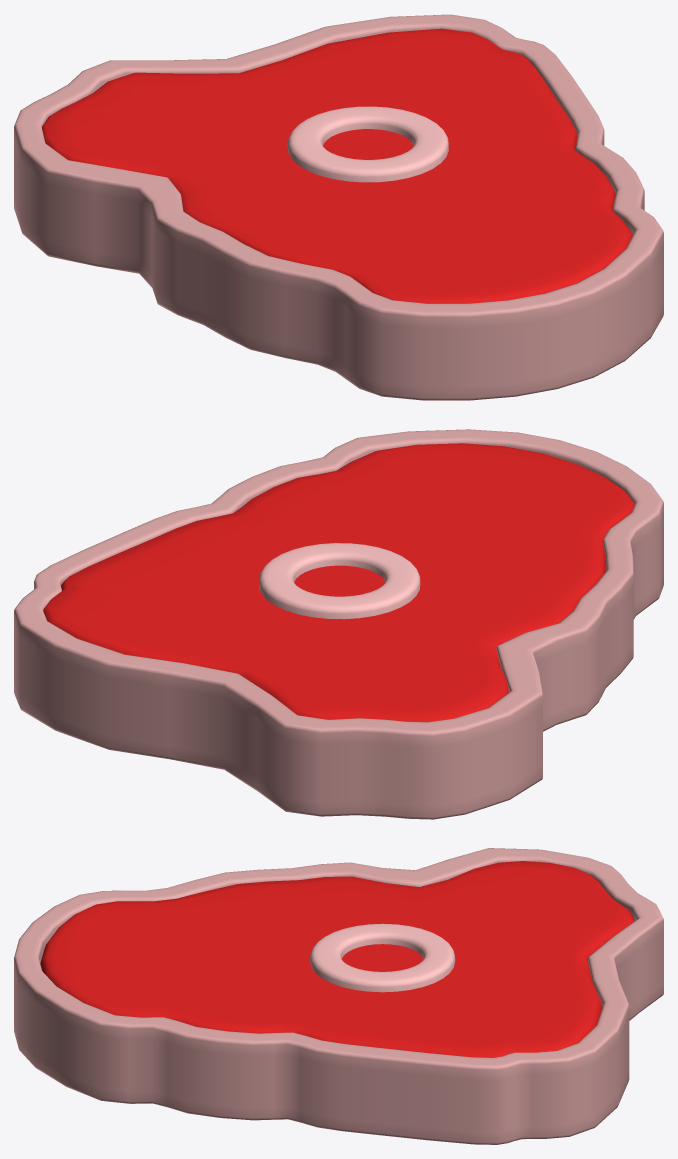
The model's file is Steak.fbx.
3 views of the same model, one above another, from view 1: azimuth 30°, elevation 25°; view 2: azimuth 150°, elevation 25°; view 3: azimuth 270°, elevation 25° (orthographic). The views are drawn at different scales.
Parts seen in each view (by area): view 1: Meat, Fat, bone; view 2: Meat, Fat, bone; view 3: Meat, Fat, bone.
Boxes of the visible parts, x1,y1,x2,y2 form: Meat: [42, 28, 632, 303]; Fat: [14, 14, 663, 400]; bone: [287, 106, 448, 182]; Meat: [43, 443, 634, 722]; Fat: [14, 429, 663, 819]; bone: [259, 543, 420, 619]; Meat: [40, 861, 634, 1057]; Fat: [14, 848, 663, 1144]; bone: [310, 923, 455, 992].
Size of the model in its own units: 1.47 by 0.3064 by 1.84.
